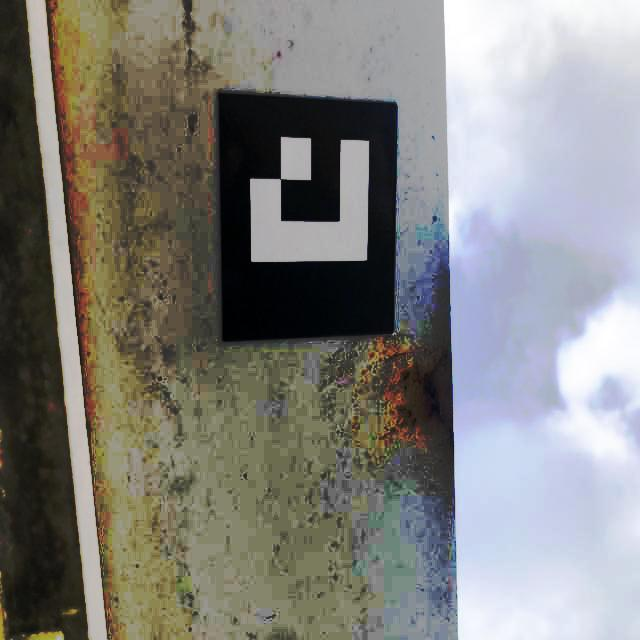Corrosion: (386, 354, 452, 455)
